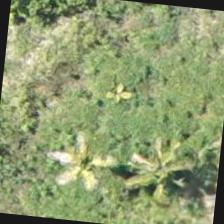Kelapa_Sawit: (34, 114, 133, 213), (103, 123, 202, 222)
